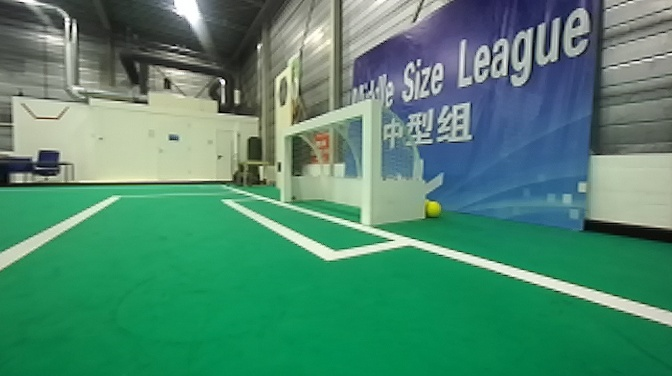ball: (418, 190, 442, 223)
goalpost: (355, 91, 392, 230), (276, 126, 299, 214)
